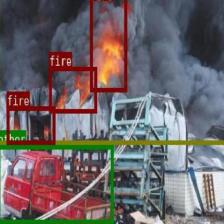fire: (90, 0, 127, 91), (48, 66, 97, 112), (6, 106, 55, 143)
smoke: (0, 0, 224, 143)
